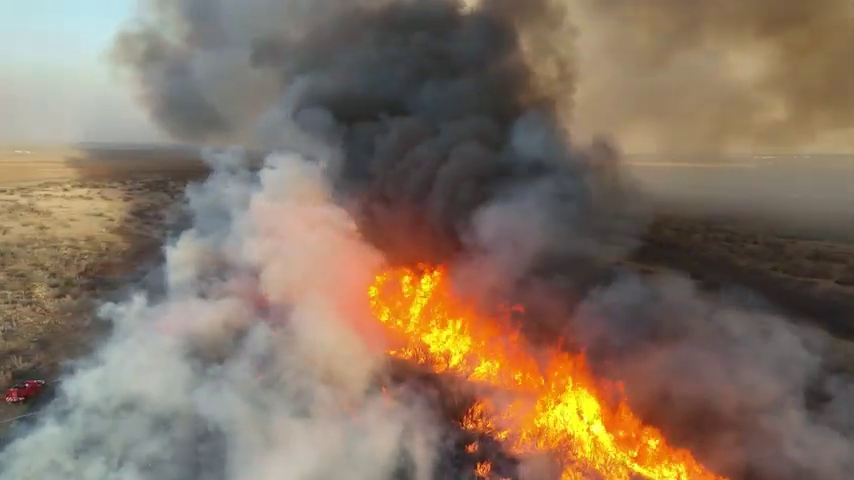forest_fire: (368, 264, 722, 479), (475, 461, 491, 476), (467, 443, 477, 450)
vehicle_fire: (4, 380, 44, 401)
